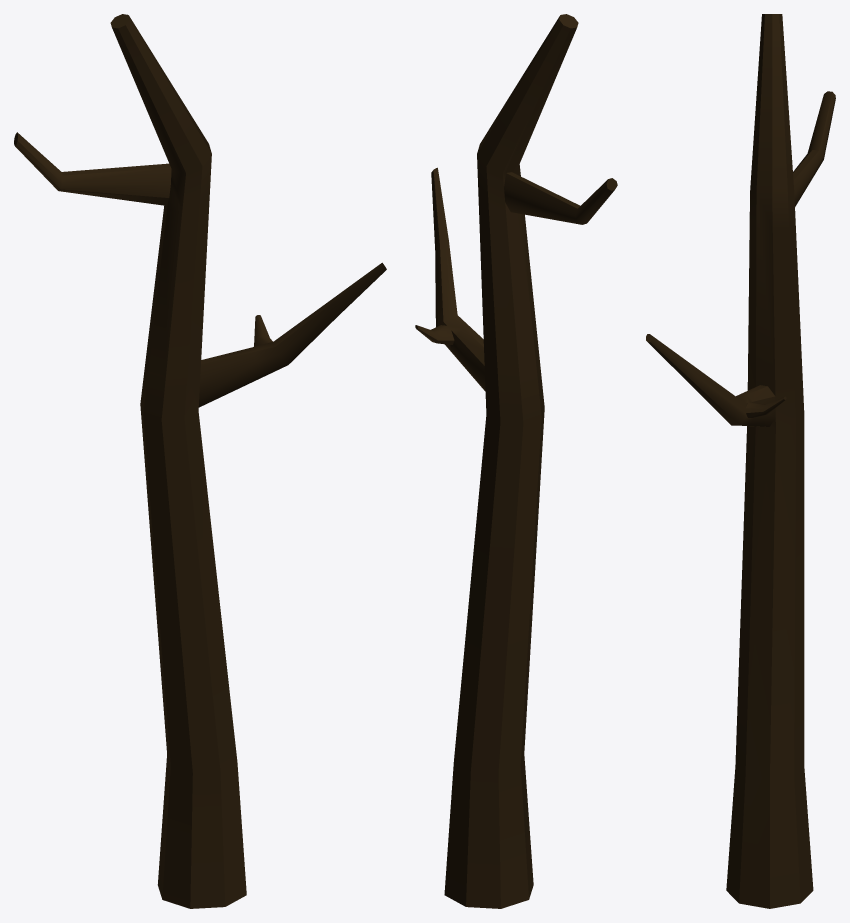
File: Tree1.fbx
The picture shows the model from 3 angles, left to right: view 1: azimuth 30°, elevation 25°; view 2: azimuth 150°, elevation 25°; view 3: azimuth 270°, elevation 25°; orthographic projection. The views are drawn at different scales.
Visible parts, largest first — view 1: Zylinder; view 2: Zylinder; view 3: Zylinder.
Boxes of the visible parts, x1,y1,x2,y2 form: Zylinder: (14,14,386,908); Zylinder: (415,14,617,908); Zylinder: (646,14,835,908).
Bounding box in the file's own units: 440 × 1352 × 276.
